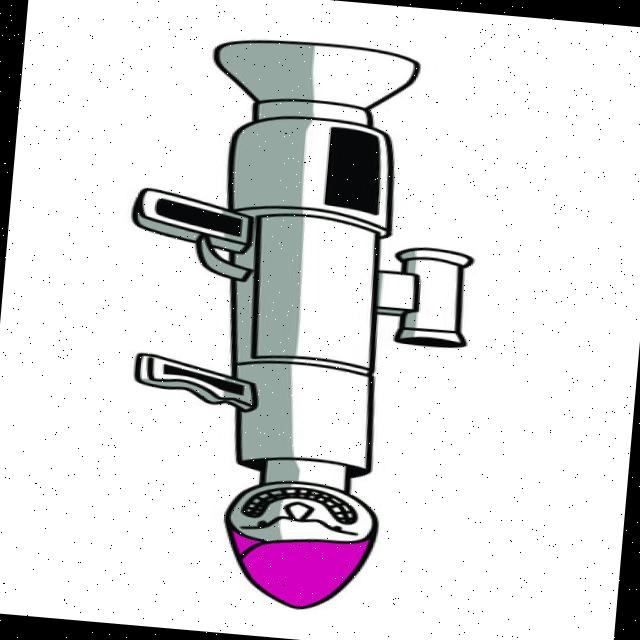Bazooka: (69, 26, 493, 623)
